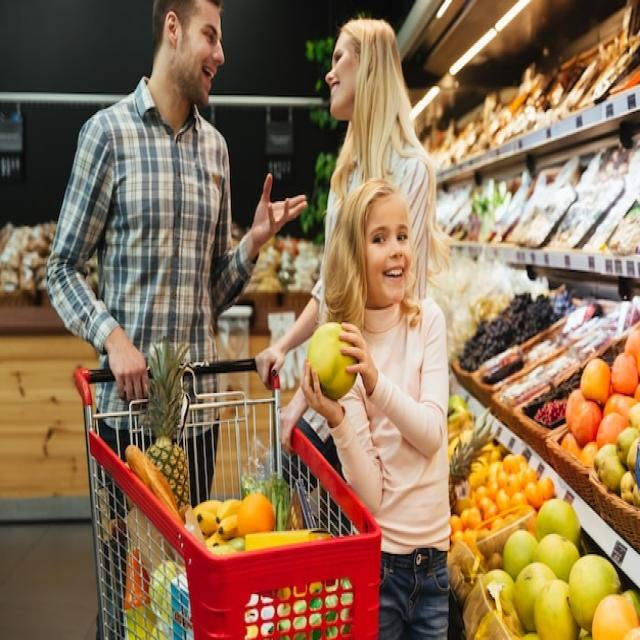Person: (46, 1, 307, 511), (255, 19, 438, 452), (299, 178, 451, 640)
